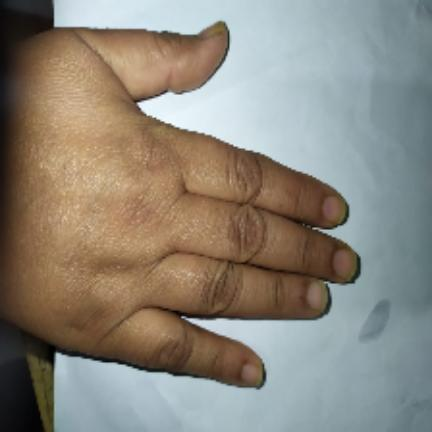Nail: (322, 196, 348, 222), (332, 250, 355, 278), (306, 282, 328, 311), (198, 21, 228, 39), (240, 364, 262, 385)
